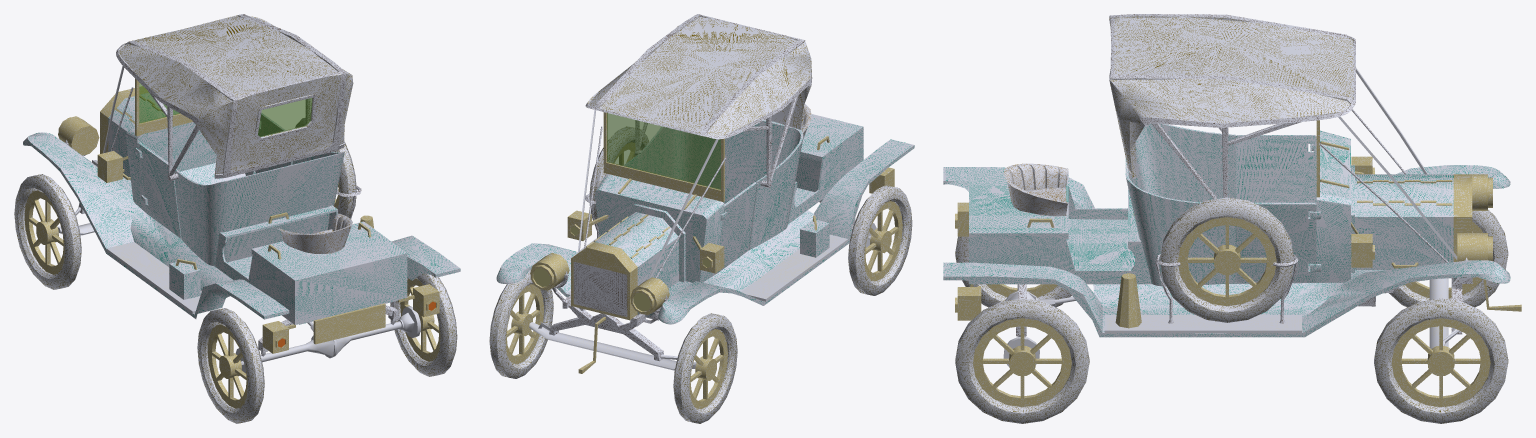
3 views of the same model, side by side, from view 1: azimuth 30°, elevation 25°; view 2: azimuth 150°, elevation 25°; view 3: azimuth 270°, elevation 25° (orthographic). The views are drawn at different scales.
Parts seen in each view (by area): view 1: Material2.001, Material2, Material3, Material3.006, Material3.001, Material3.007, Material2.003, Material3.002, Material3.005, Material3.003; view 2: Material2.001, Material2, Material3, Material2.003, Material3.006, Material3.001, Material3.007, Material3.002, Material3.005, Material2.002, Material3.004; view 3: Material2.001, Material2, Material3, Material3.007, Material3.006, Material3.001, Material3.005, Material3.002, Material3.003.
Part boxes in pixels (x1,y1,x2,y2): Material2.001: (14,14,460,423); Material2: (24,78,440,408); Material3: (108,96,407,320); Material3.006: (119,15,351,174); Material3.001: (23,133,454,323); Material3.007: (14,123,456,422); Material2.003: (139,83,312,136); Material3.002: (58,66,419,372); Material3.005: (66,14,397,355); Material3.003: (280,215,350,253); Material2.001: (489,14,914,423); Material2: (505,112,902,409); Material3: (595,118,863,287); Material2.003: (607,113,720,189); Material3.006: (588,16,811,135); Material3.001: (497,139,914,323); Material3.007: (490,133,911,423); Material3.002: (529,111,872,369); Material3.005: (550,14,820,360); Material2.002: (533,226,710,311); Material3.004: (574,263,627,315); Material2.001: (943,14,1517,423); Material2: (955,120,1521,407); Material3: (969,124,1453,285); Material3.007: (955,198,1508,423); Material3.006: (1109,16,1353,177); Material3.001: (943,165,1510,337); Material3.005: (1016,14,1471,335); Material3.002: (1004,68,1457,358); Material3.003: (1004,163,1066,215).
Size of the model in its own units: 21217 by 27841 by 45160.
